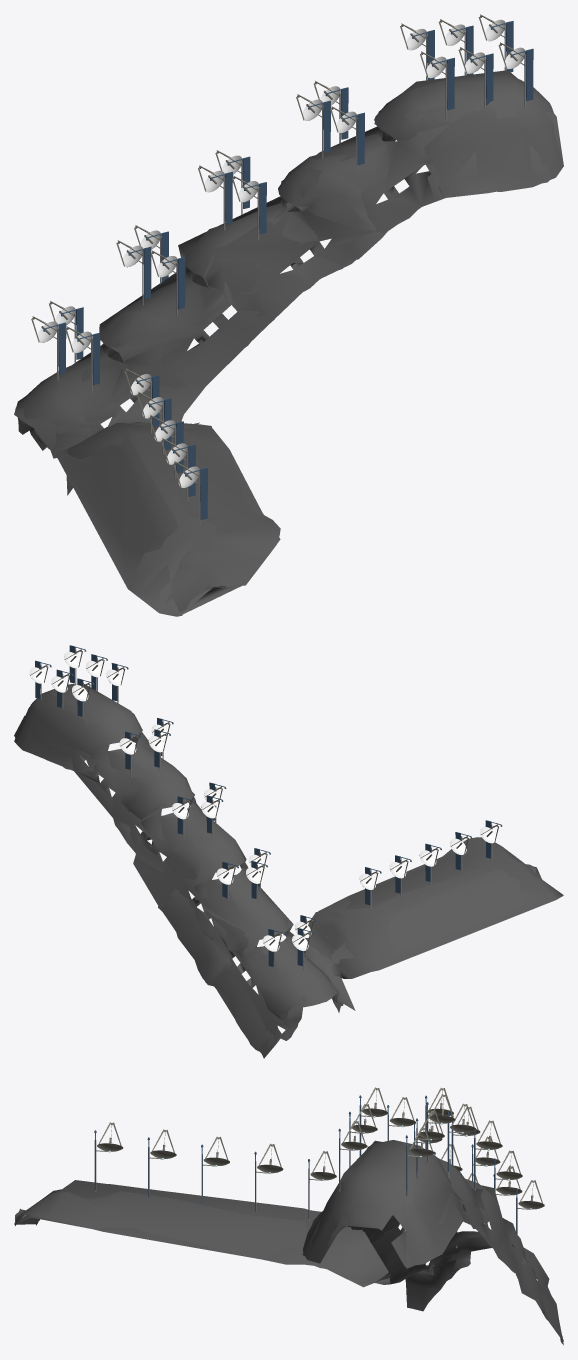
The model's file is Overlay_3rd_Gal_Top.glb.
3 views of the same model, one above another, from view 1: azimuth 30°, elevation 25°; view 2: azimuth 150°, elevation 25°; view 3: azimuth 270°, elevation 25° (orthographic). The views are drawn at different scales.
Parts seen in each view (by area): view 1: Overlay_3rdGal_Top, Overlay_3rdGal_Top.001, LightTubes_3rdGal_Top_Mirrors, LightTubes_3rdGal_Top_LEDs, LightTubes_3rdGal_Top_Bases; view 2: Overlay_3rdGal_Top, Overlay_3rdGal_Top.001, LightTubes_3rdGal_Top_Mirrors, LightTubes_3rdGal_Top_LEDs, LightTubes_3rdGal_Top_Bases; view 3: Overlay_3rdGal_Top, Overlay_3rdGal_Top.001, LightTubes_3rdGal_Top_Mirrors, LightTubes_3rdGal_Top_Bases, LightTubes_3rdGal_Top_LEDs.
Boxes of the visible parts, box(x1,y1,x2,y2) form: Overlay_3rdGal_Top: box(15, 75, 563, 616); Overlay_3rdGal_Top.001: box(14, 70, 563, 615); LightTubes_3rdGal_Top_Mirrors: box(31, 14, 525, 487); LightTubes_3rdGal_Top_LEDs: box(43, 21, 533, 519); LightTubes_3rdGal_Top_Bases: box(53, 24, 525, 525); Overlay_3rdGal_Top: box(14, 684, 562, 1058); Overlay_3rdGal_Top.001: box(14, 684, 563, 1054); LightTubes_3rdGal_Top_Mirrors: box(29, 649, 498, 951); LightTubes_3rdGal_Top_LEDs: box(35, 645, 502, 966); LightTubes_3rdGal_Top_Bases: box(40, 648, 492, 970); Overlay_3rdGal_Top: box(15, 1140, 563, 1345); Overlay_3rdGal_Top.001: box(14, 1140, 561, 1340); LightTubes_3rdGal_Top_Mirrors: box(97, 1087, 544, 1209); LightTubes_3rdGal_Top_Bases: box(94, 1105, 529, 1248); LightTubes_3rdGal_Top_LEDs: box(94, 1095, 517, 1233).
Size of what is drawn, in the model's own units: 386 by 254 by 318.
